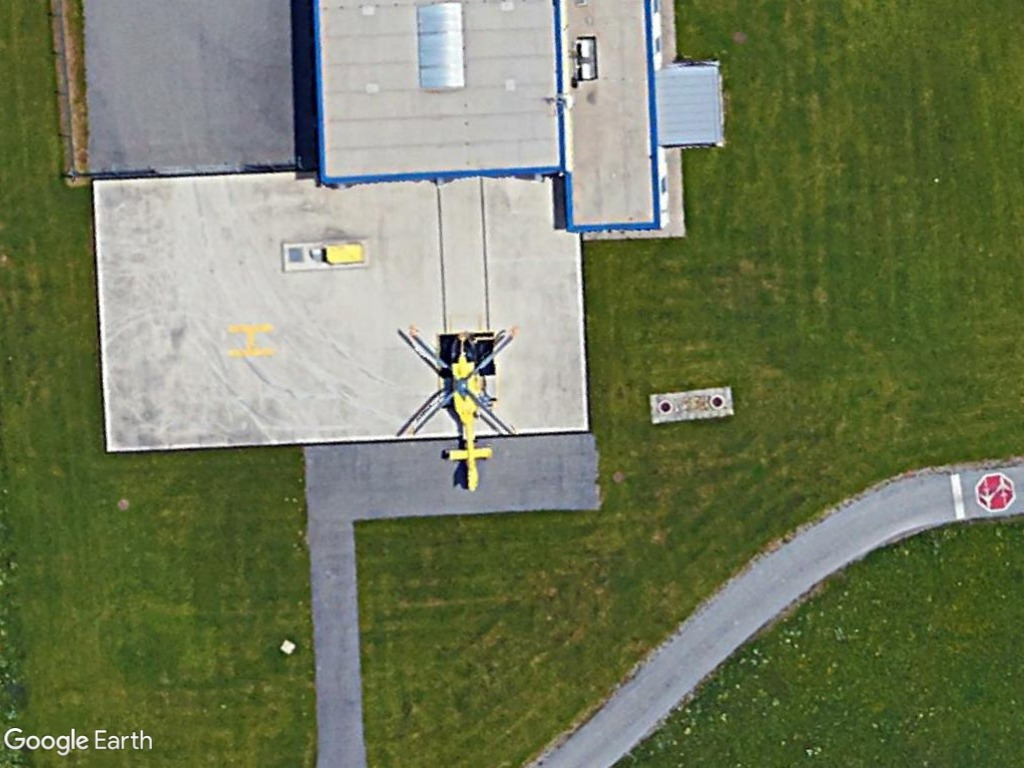helicopter: (400, 321, 530, 497)
